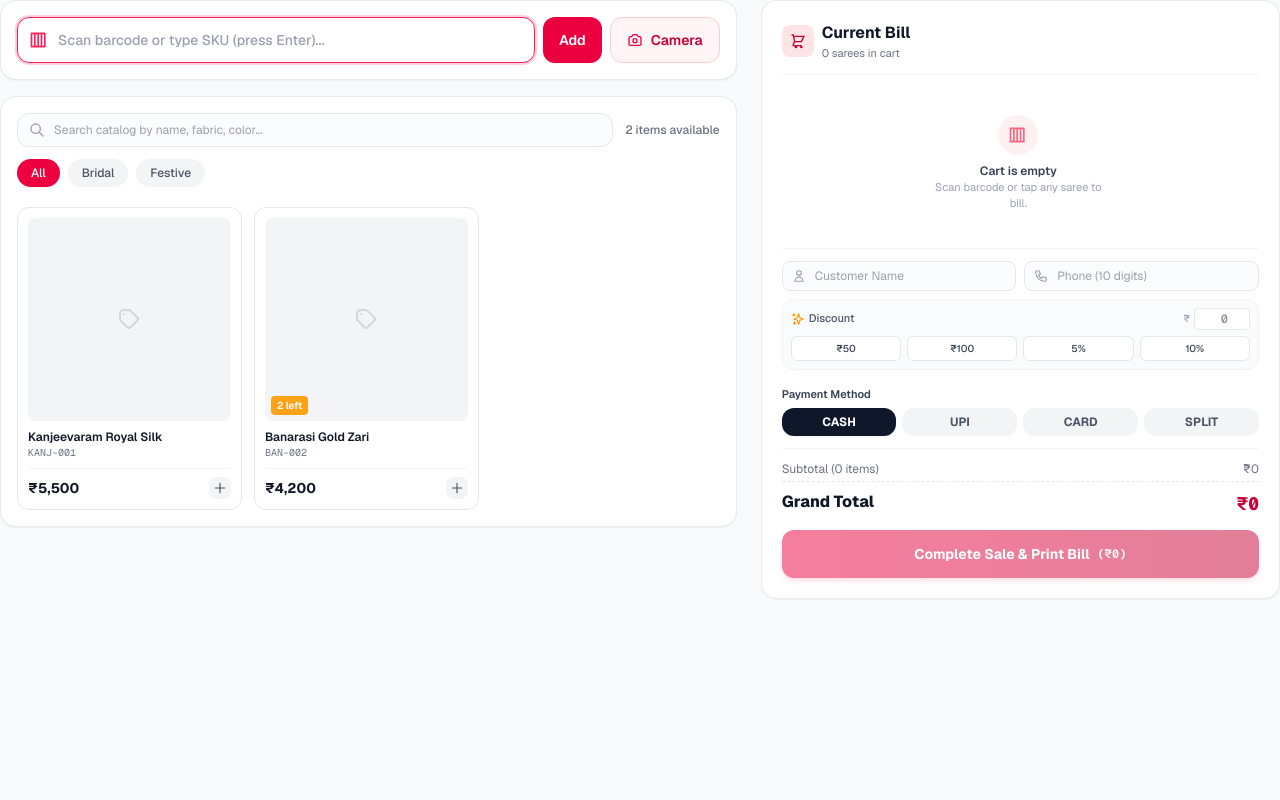
Test: SaleCart UI & Modernized POS Component › adds item to cart on click and updates subtotal
Click the text "Kanjeevaram Royal Silk".
click(95, 437)  # box [28, 429, 162, 445]
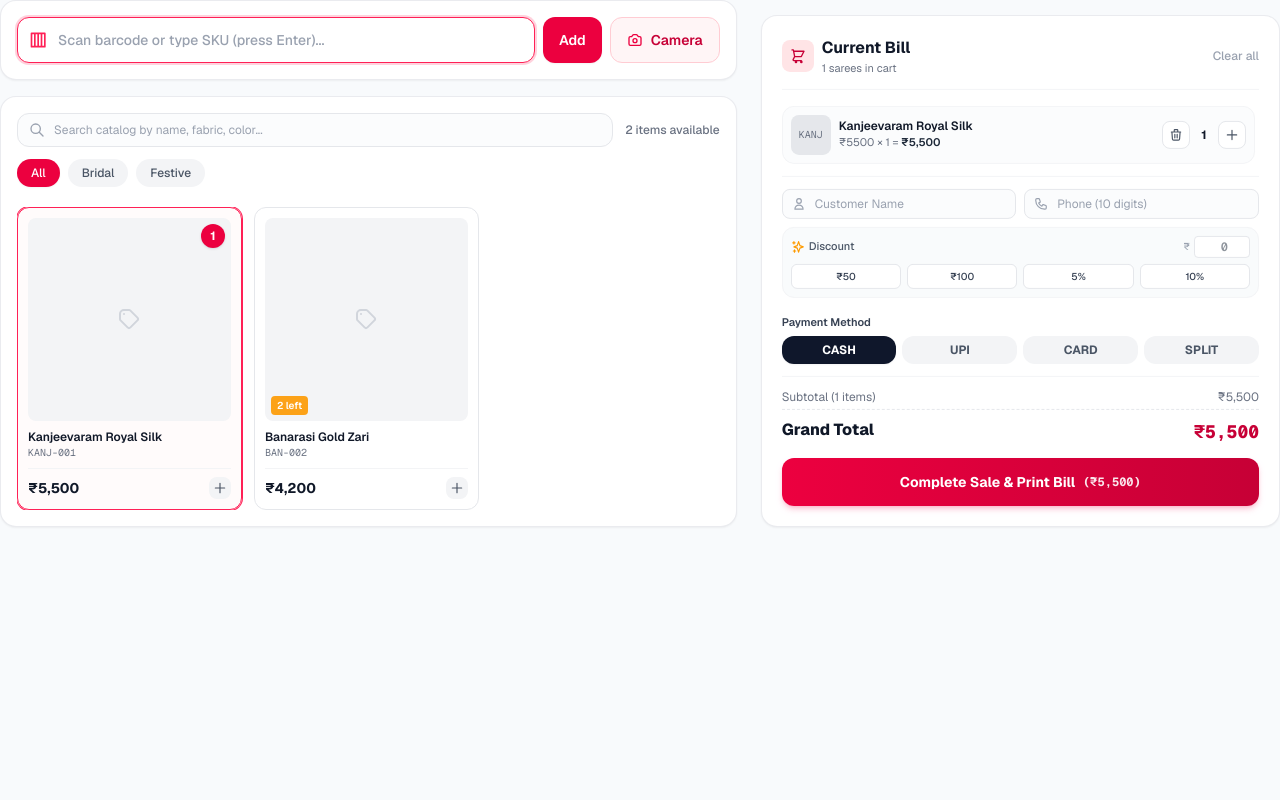
Expected: the heading "Current Bill" is shown, [822, 36, 910, 60]
Expected: the text "1 sarees in cart" is shown, [822, 61, 897, 75]
